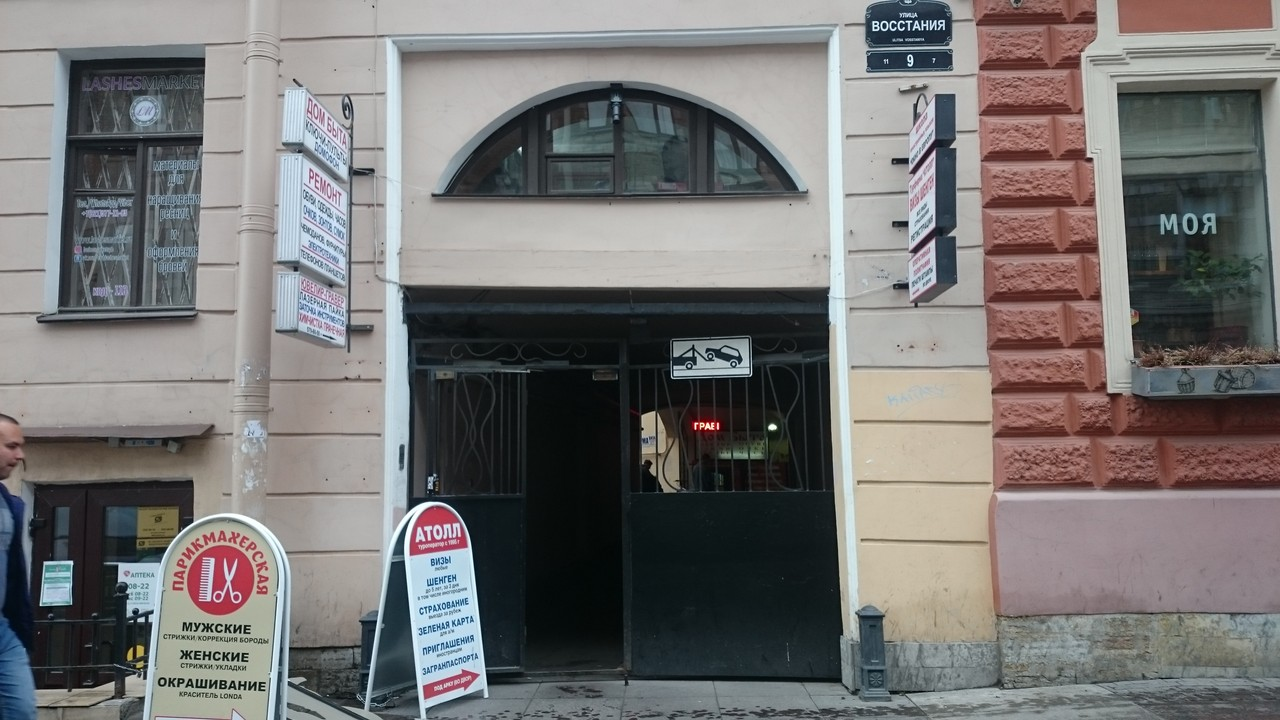arch: (401, 280, 844, 685)
cantilever: (274, 78, 373, 347), (889, 88, 959, 312)
window: (1116, 83, 1280, 364), (434, 86, 805, 196), (59, 56, 205, 312)
